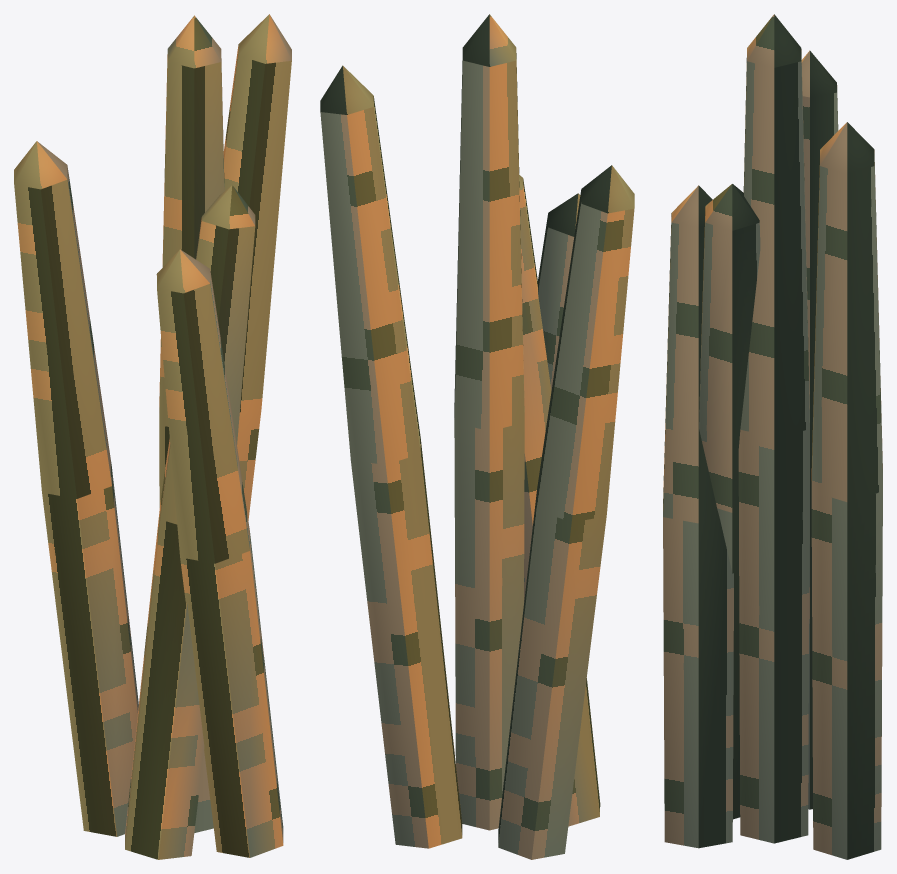
Rendered from wprop.cactus__organ.glb.
The picture shows the model from 3 angles, left to right: view 1: azimuth 30°, elevation 25°; view 2: azimuth 150°, elevation 25°; view 3: azimuth 270°, elevation 25°; orthographic projection.
Visible parts, largest first — view 1: kit_stems; view 2: kit_stems; view 3: kit_stems.
Boxes of the visible parts, <box> form: kit_stems: <box>14,14,291,859</box>; kit_stems: <box>320,14,634,859</box>; kit_stems: <box>663,14,882,859</box>.
Bounding box in the file's own units: 0.9714 × 2.53 × 0.6162.
1 material, 1 textured.
